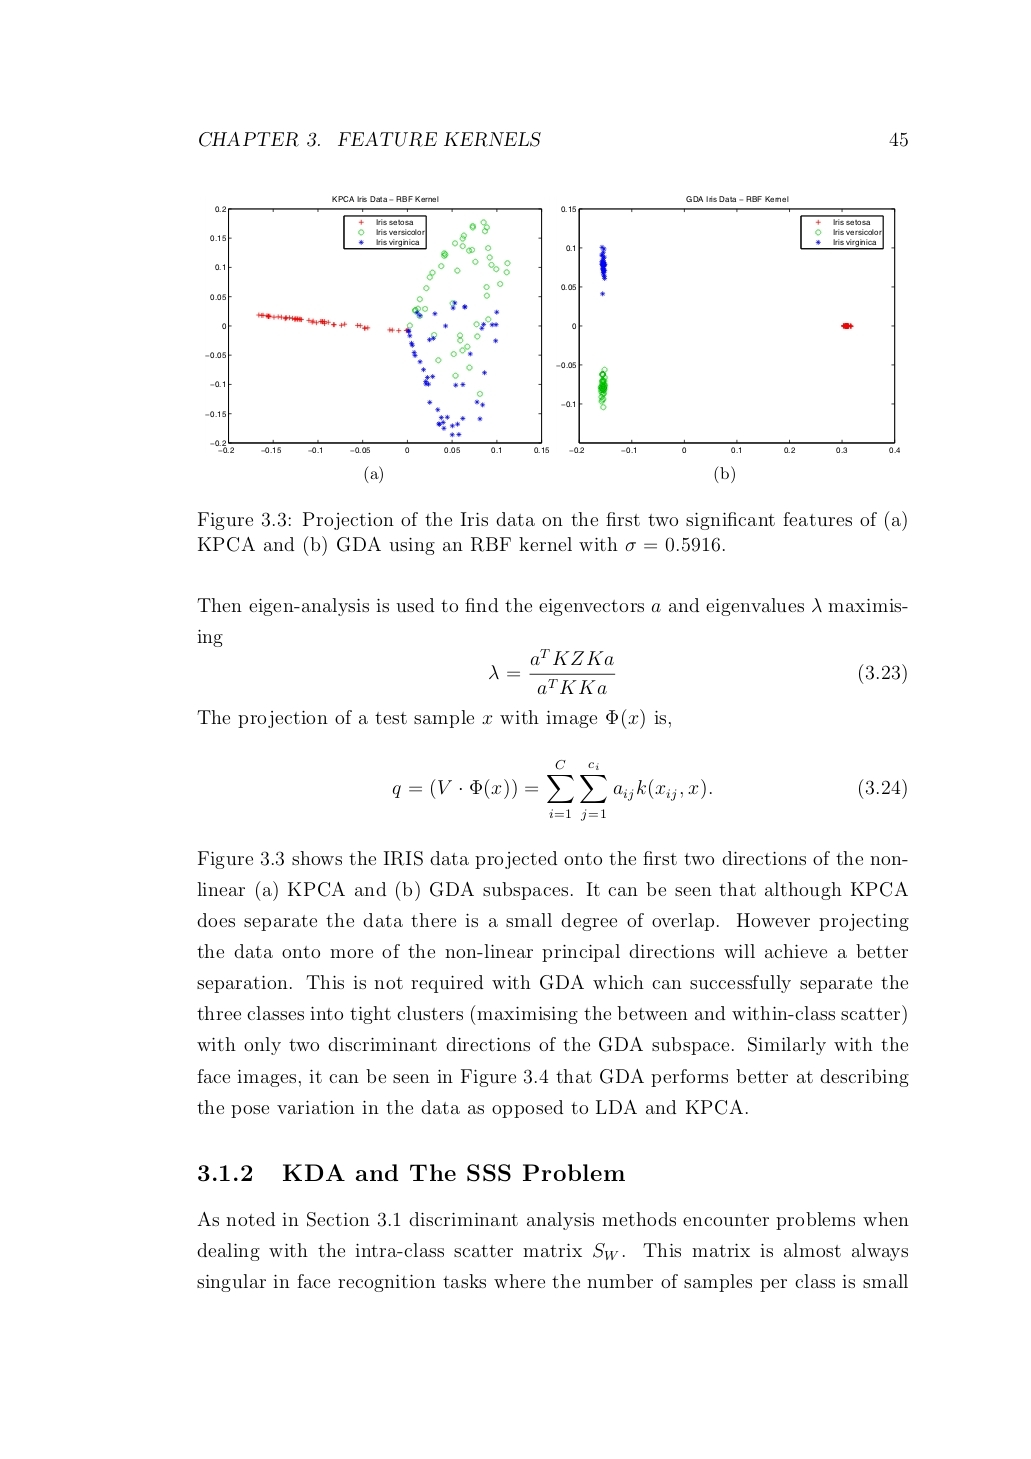figure: (205, 206, 548, 452), (559, 206, 899, 452)
formula: (392, 759, 906, 820), (489, 649, 615, 694)
